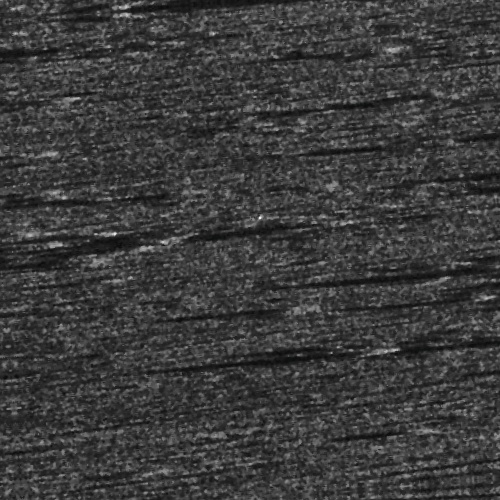object: (256, 305, 329, 314), (1, 221, 84, 228), (325, 355, 378, 364), (488, 279, 500, 296), (66, 215, 107, 218)
shadow: (294, 279, 500, 296), (106, 355, 351, 364), (364, 356, 500, 367), (168, 305, 292, 314), (0, 221, 43, 228), (0, 215, 86, 218)
